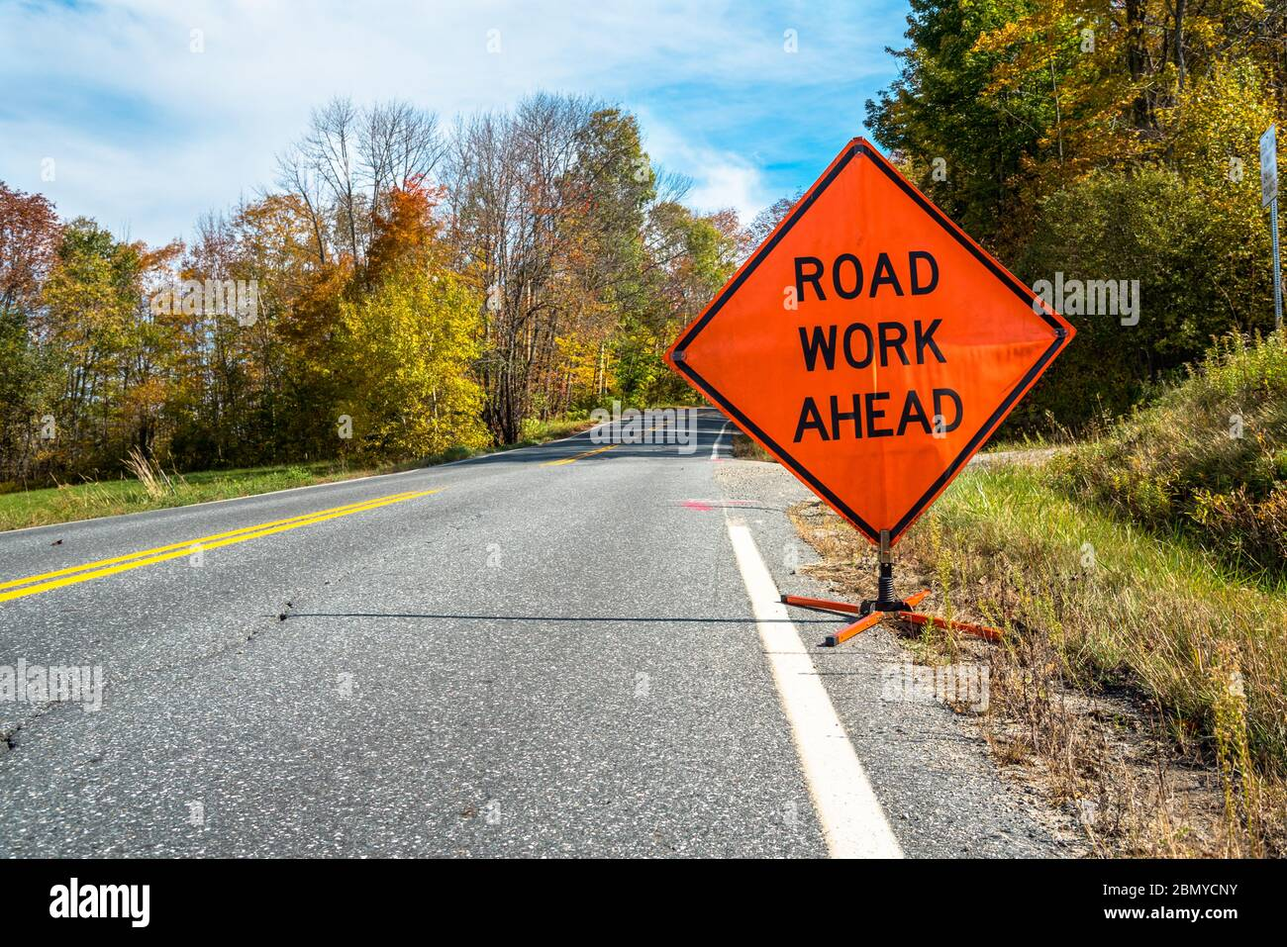Road_workahead: (668, 137, 1088, 551)
Tree: (1035, 1, 1261, 378), (322, 190, 524, 468), (1, 177, 151, 466)
